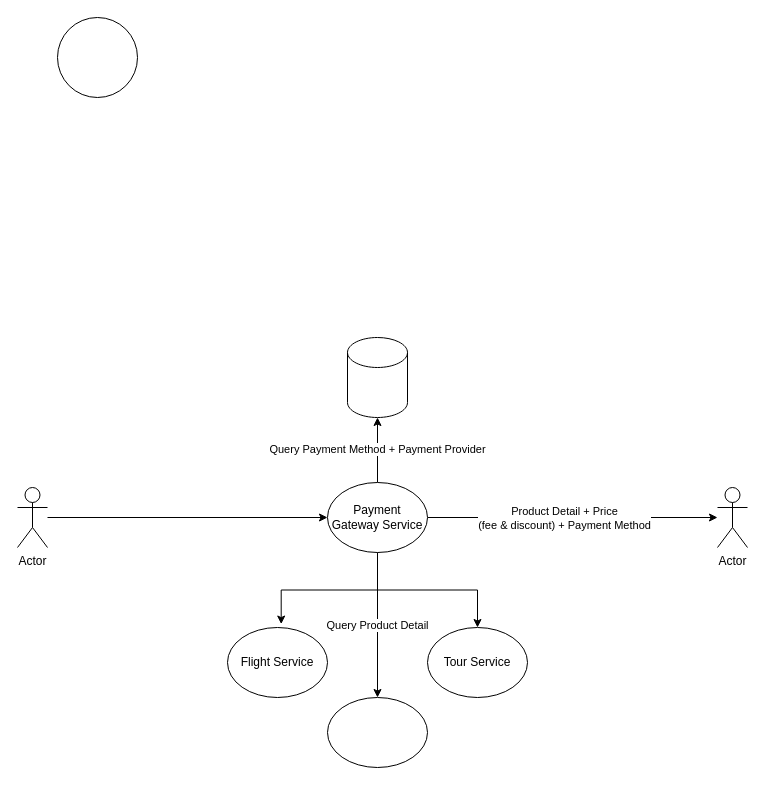
The diagram is 765 pixels wide and 785 high, and some of its shapes have lost their labels. Here are the shapes that lost their labels. From the top down, the box of each, then its label:
(56, 16, 138, 98): ABA
(346, 336, 408, 418): DB
(326, 696, 428, 768): Hotel Service
